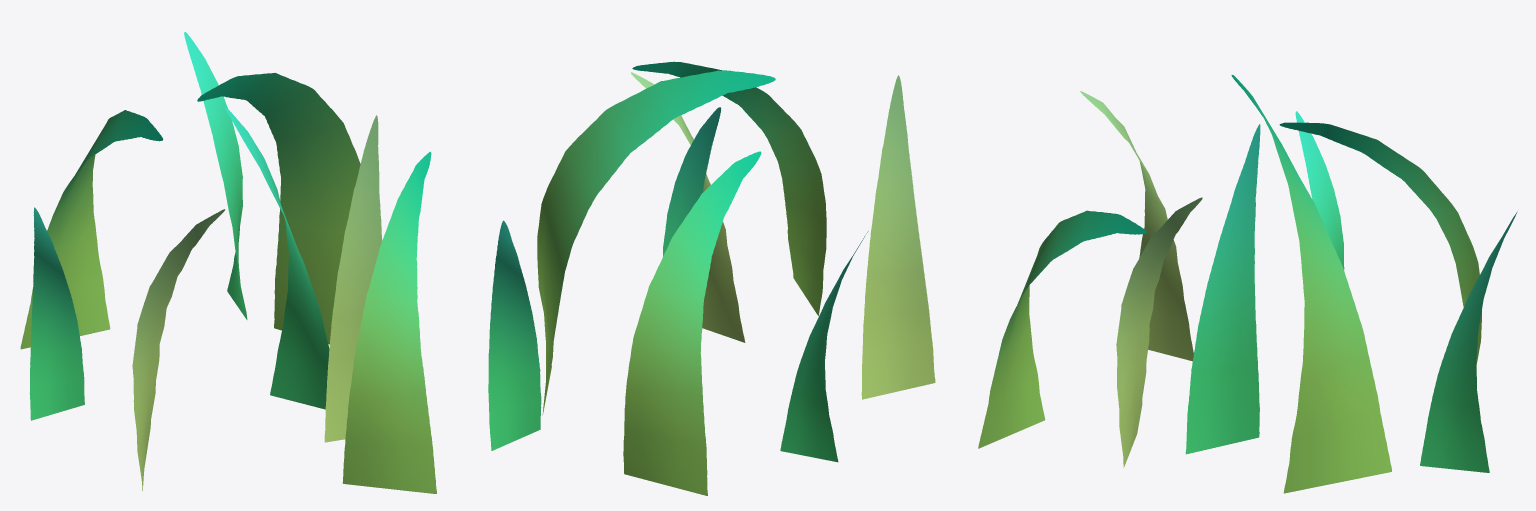
Rendered from GrassBunch2.fbx.
The picture shows the model from 3 angles, left to right: view 1: azimuth 30°, elevation 25°; view 2: azimuth 150°, elevation 25°; view 3: azimuth 270°, elevation 25°; orthographic projection. The views are drawn at different scales.
Visible parts, largest first — view 1: GrassBunch2; view 2: GrassBunch2; view 3: GrassBunch2.
Boxes of the visible parts, box(x1,y1,x2,y2) form: GrassBunch2: box(20, 32, 436, 493); GrassBunch2: box(488, 61, 935, 495); GrassBunch2: box(978, 75, 1517, 493).
Size of the model in its own units: 0.1469 by 0.1496 by 0.1936.
1 material, 1 textured.
